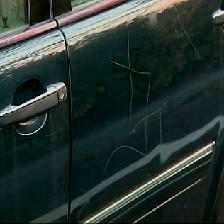door_scratch: (88, 36, 185, 184)
